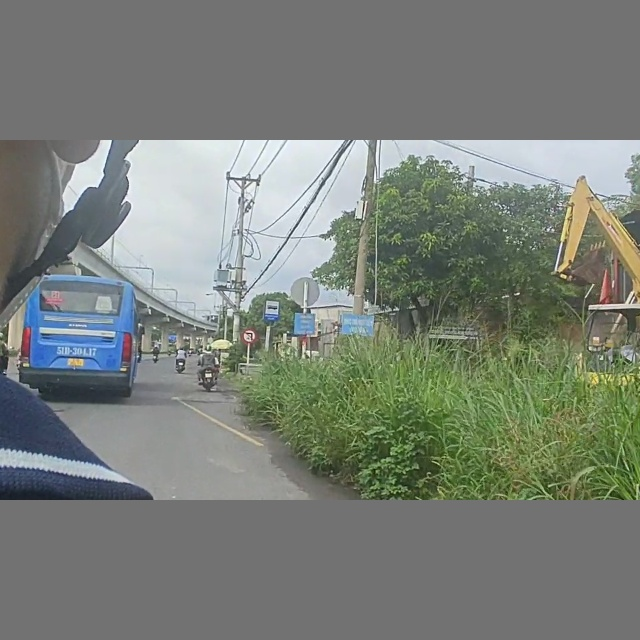I.434a: (264, 298, 281, 321)
P.123a: (242, 327, 258, 344)
